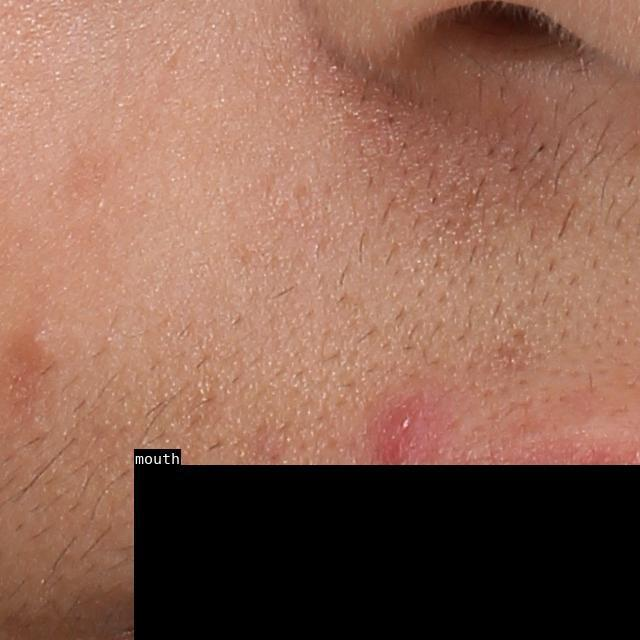papule: (370, 393, 436, 468)
